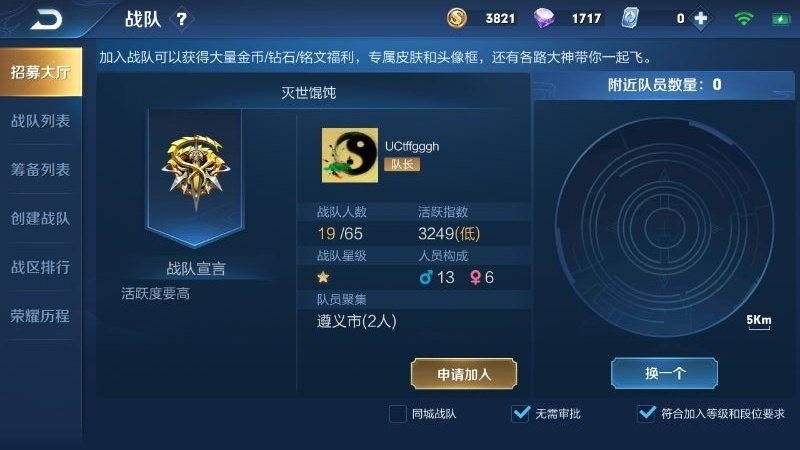return: (20, 4, 79, 35)
tag: (610, 355, 716, 389), (8, 151, 76, 186), (1, 198, 76, 229), (1, 247, 76, 276), (7, 108, 74, 138)
